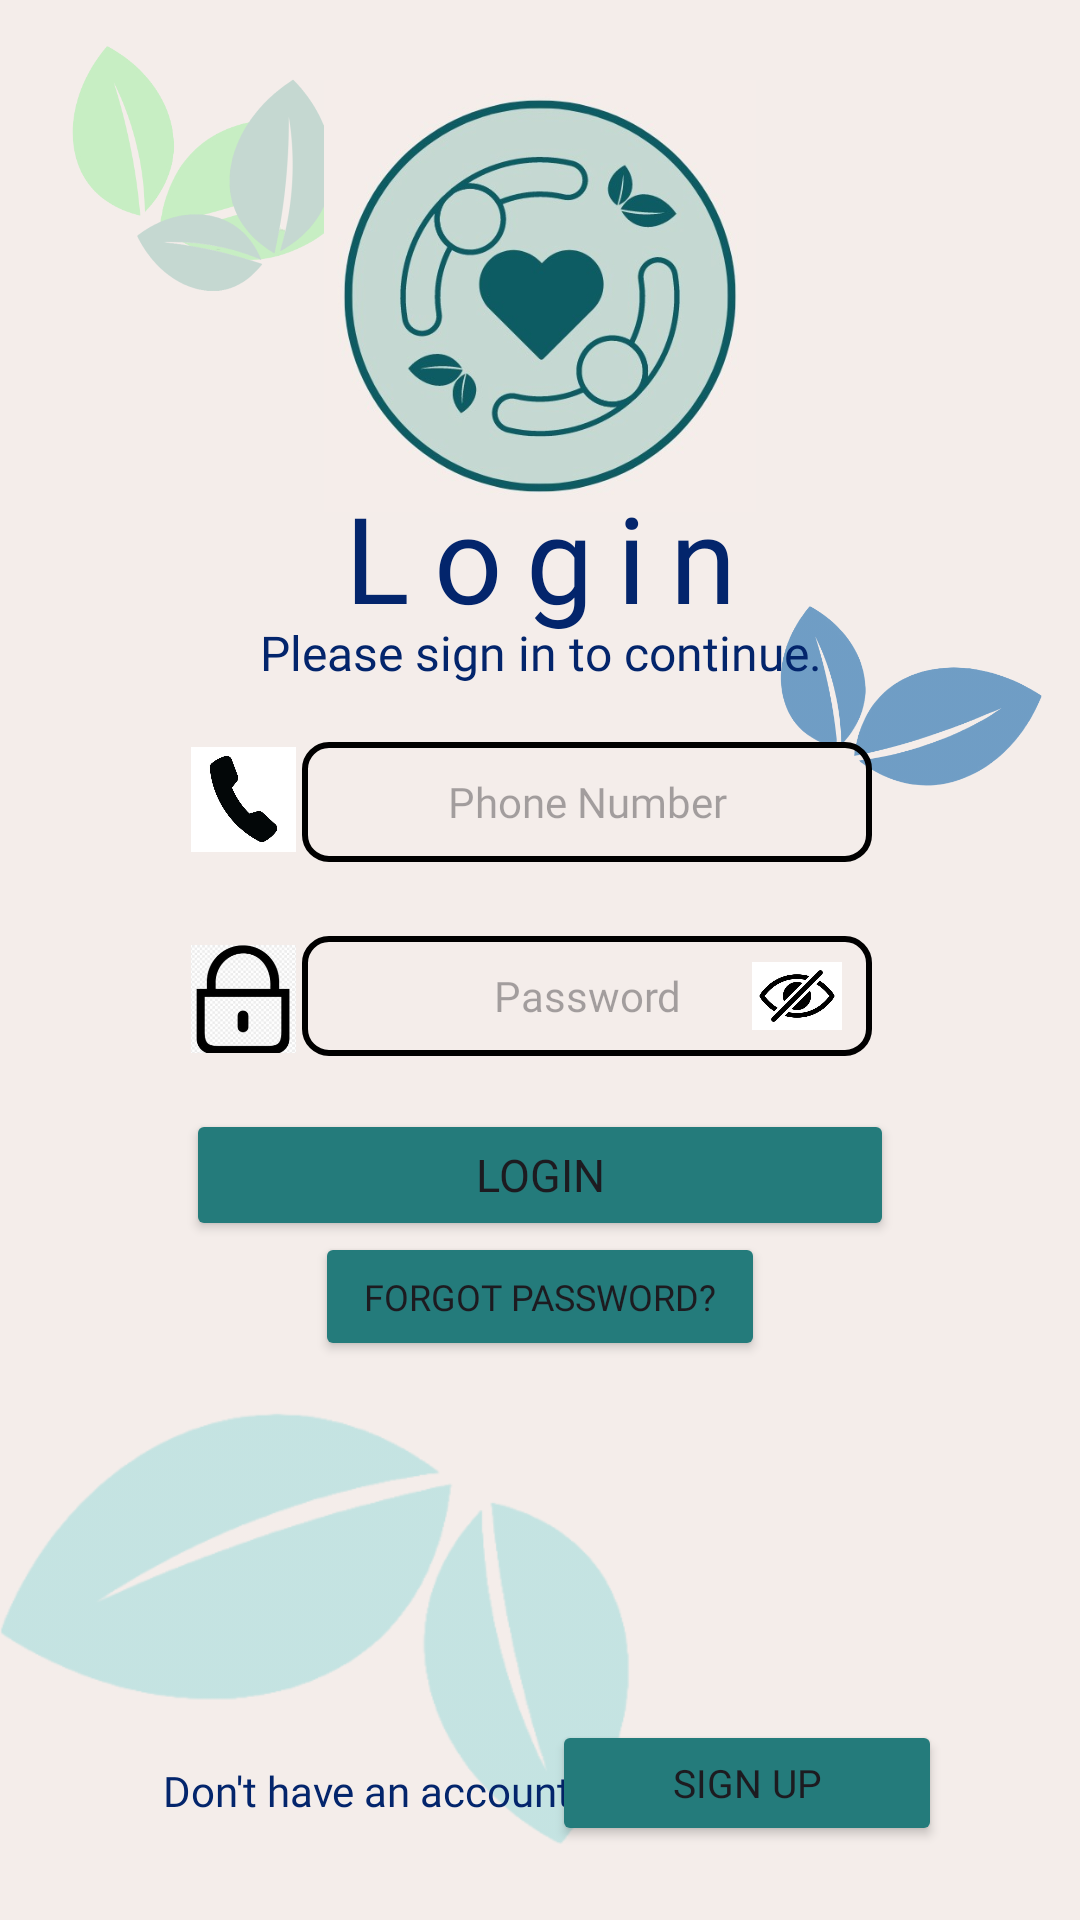

Where to tap for icons on this 1080w x 1920h app screen, as (x,y):
hide: (797,996)
